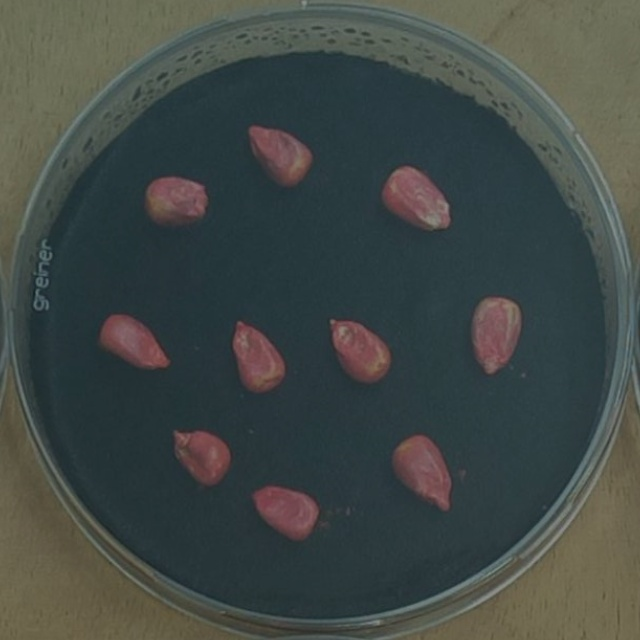Zea mays: (372, 158, 461, 240), (383, 427, 460, 518), (239, 116, 321, 196), (461, 288, 527, 385), (90, 306, 177, 378), (320, 312, 397, 393), (223, 312, 291, 403), (242, 478, 325, 550), (135, 169, 217, 237), (163, 421, 238, 495)
